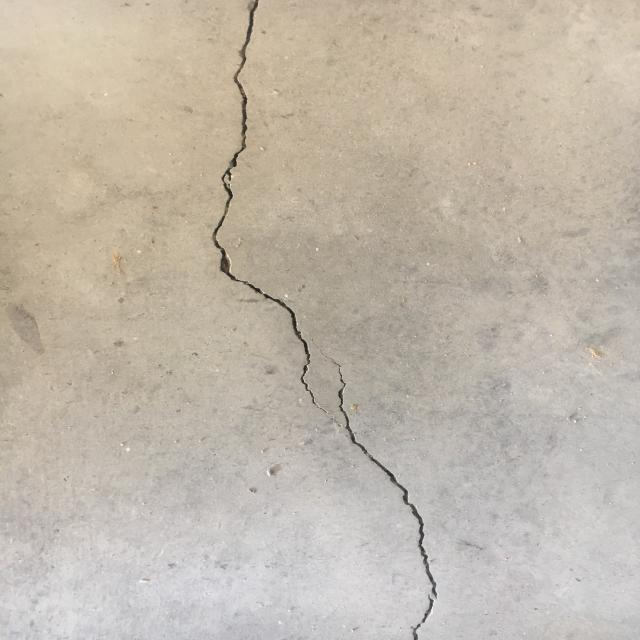Rachadura: (212, 0, 437, 640)
